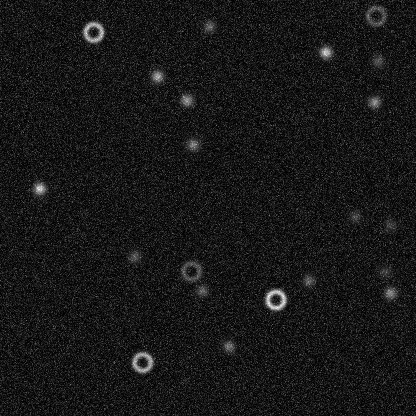Ring: (130, 350, 154, 374), (81, 20, 105, 44), (179, 259, 203, 283), (363, 3, 387, 27), (263, 287, 287, 311)
Spot: (300, 272, 316, 288), (317, 44, 333, 60), (366, 93, 382, 109), (31, 180, 47, 196), (126, 248, 142, 264), (382, 284, 398, 300), (376, 263, 392, 279), (220, 338, 236, 354), (184, 136, 200, 152), (193, 282, 209, 298), (201, 18, 217, 34), (178, 91, 194, 107), (382, 216, 398, 232), (149, 68, 165, 84), (346, 208, 362, 224), (369, 53, 385, 69)
